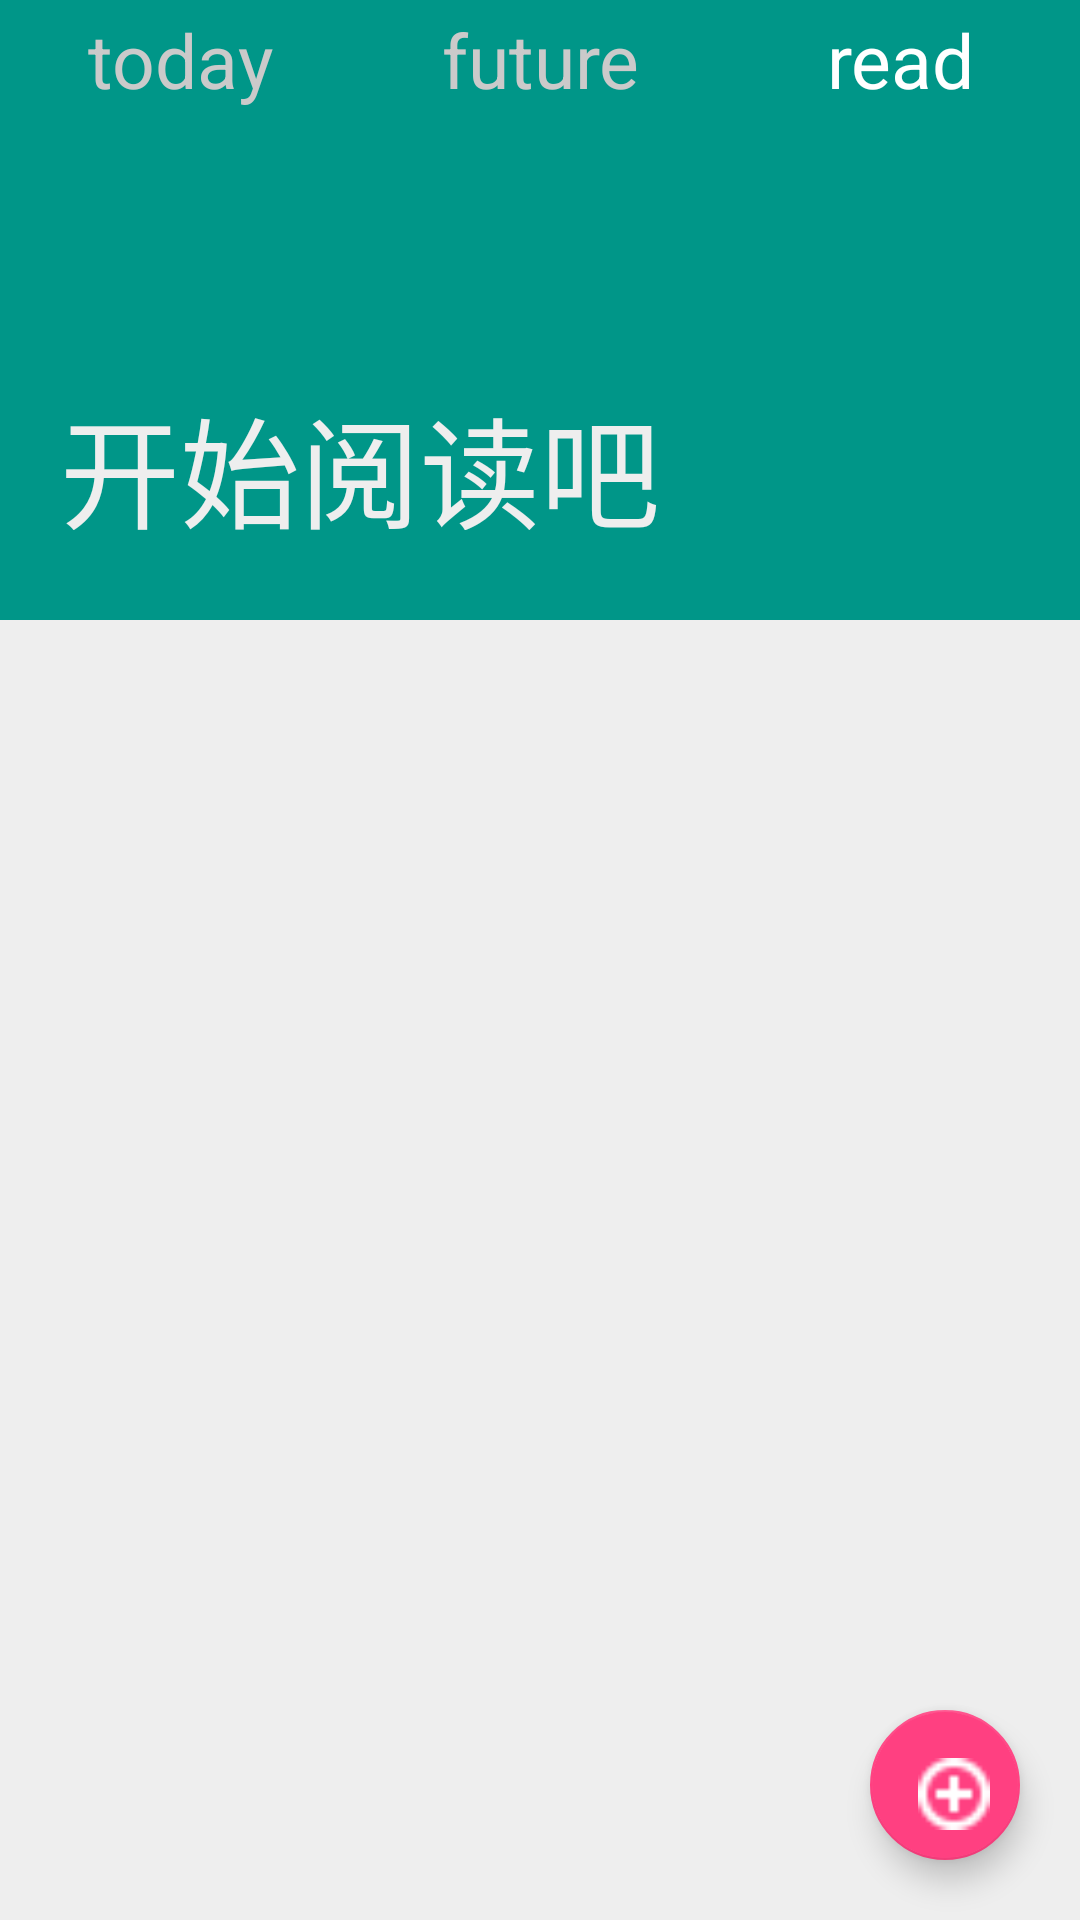

Icons on this 1080w x 1920h Android screen, each with its box as box=[x1, y1, x2, y2]:
plus: box=[870, 1710, 1020, 1860]
